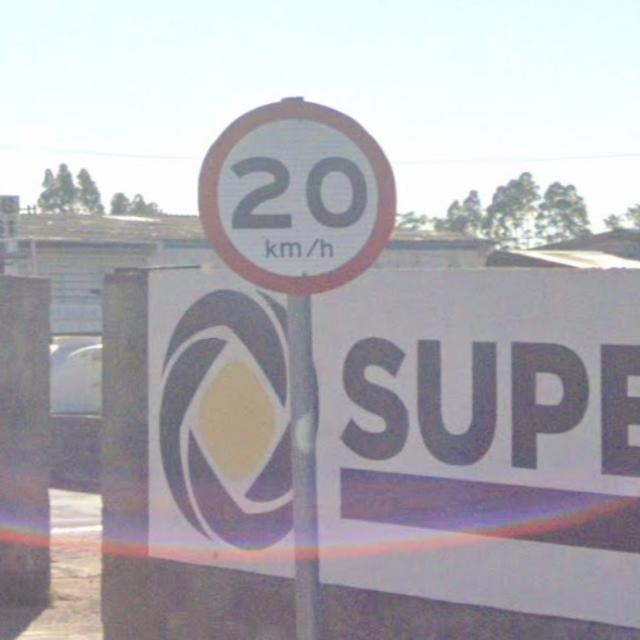speed limit: (165, 46, 428, 308)
